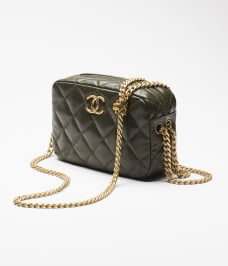channel: (47, 66, 190, 188), (163, 117, 187, 179), (78, 89, 117, 121)
